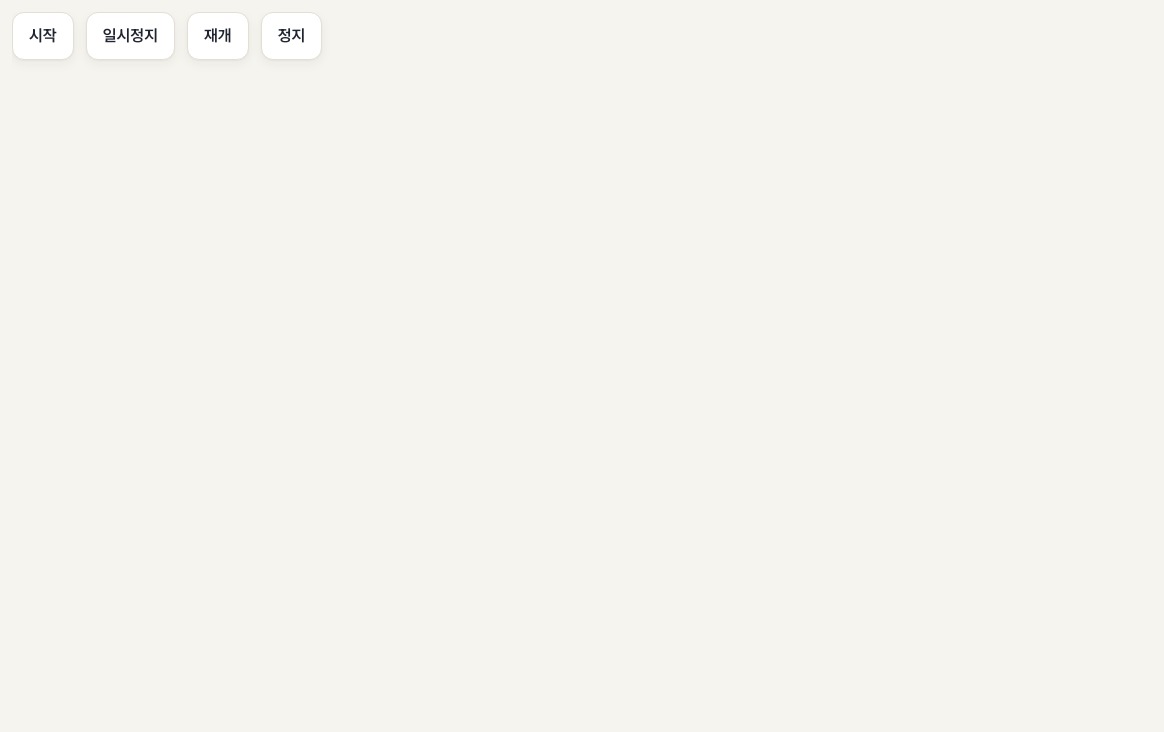
Test case: CommandResultToast › 서버가 HTTP로 거부하면(409 등) 이유를 보여 준다
The image size is (1164, 732).
Click the button "시작": (43, 36) [12,12,74,60]
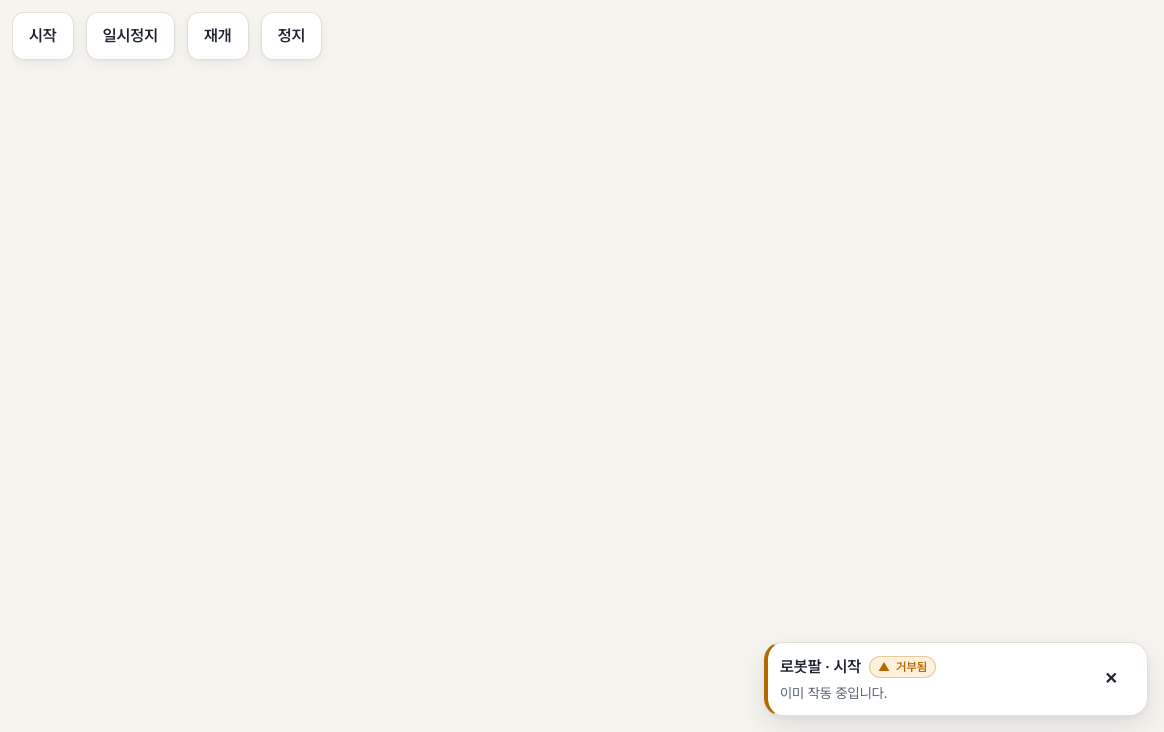
Expected: the text "이미 작동 중입니다." is shown, [780,685,887,701]
Expected: the text "거부됨" is shown, [896,659,927,675]
